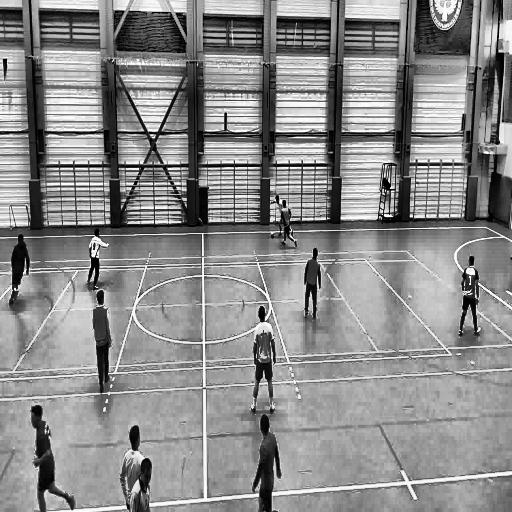ball: (269, 229, 275, 240)
player: (30, 404, 75, 512), (249, 415, 282, 512), (251, 308, 276, 414), (92, 291, 112, 395), (120, 426, 143, 512), (6, 234, 32, 308), (459, 254, 481, 338), (88, 223, 109, 291), (303, 248, 322, 322), (129, 458, 152, 512), (269, 194, 293, 236), (281, 200, 298, 248)
